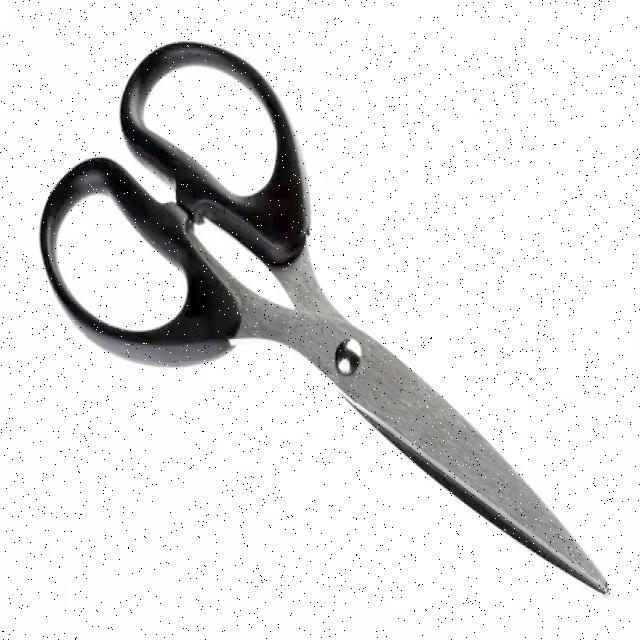scissors: (33, 28, 612, 601)
